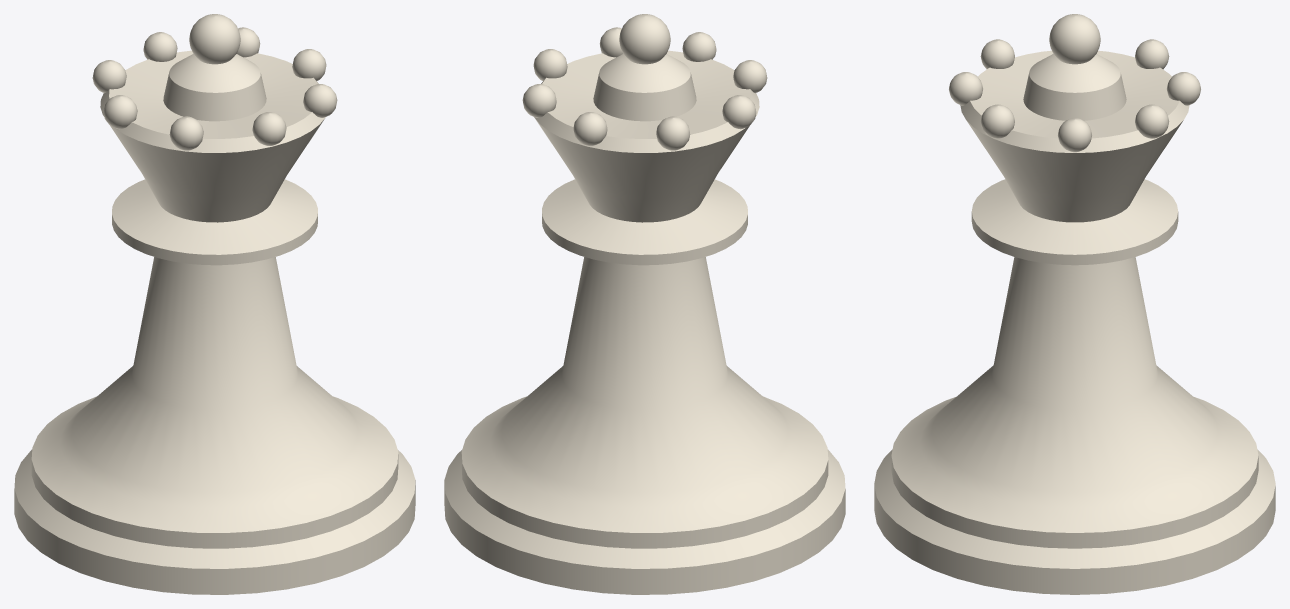
File: WhiteQueen.glb
3 views of the same model, side by side, from view 1: azimuth 30°, elevation 25°; view 2: azimuth 150°, elevation 25°; view 3: azimuth 270°, elevation 25° (orthographic).
Visible parts, largest first — view 1: WhiteQueen; view 2: WhiteQueen; view 3: WhiteQueen.
Boxes of the visible parts, left/top/right/bottom form: WhiteQueen: left=14, top=14, right=415, bottom=594; WhiteQueen: left=444, top=14, right=845, bottom=594; WhiteQueen: left=874, top=14, right=1275, bottom=594.
Bounding box in the file's own units: 0.7 × 0.95 × 0.7.
